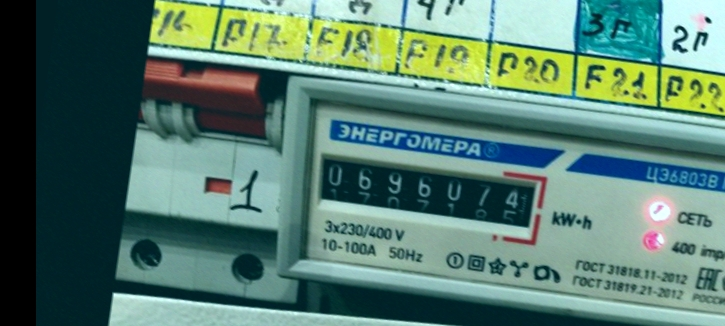0: (324, 160, 346, 187), (445, 176, 464, 203)
4: (503, 184, 522, 208)
5: (501, 209, 519, 226)
6: (416, 172, 436, 200), (356, 165, 376, 191)
7: (474, 181, 495, 208)
9: (385, 168, 405, 196)
screen: (304, 139, 552, 242)
